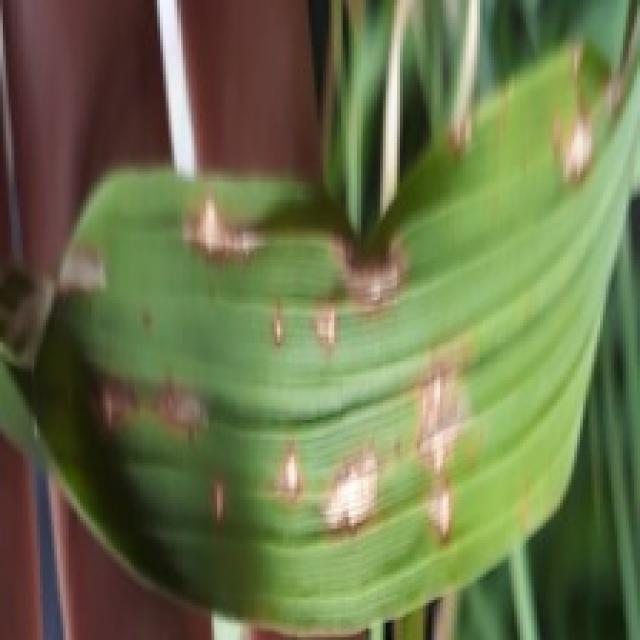Unhealthy: (409, 332, 480, 474), (326, 225, 416, 323), (178, 190, 273, 274), (320, 433, 382, 546), (149, 369, 212, 439), (6, 280, 52, 363), (52, 238, 110, 299), (603, 32, 636, 135), (91, 378, 148, 436), (554, 114, 598, 184), (420, 475, 457, 552), (271, 436, 307, 511), (445, 111, 478, 161), (208, 471, 228, 553), (312, 295, 337, 356), (569, 40, 586, 114), (463, 427, 485, 475), (271, 294, 289, 349), (518, 480, 533, 538)
